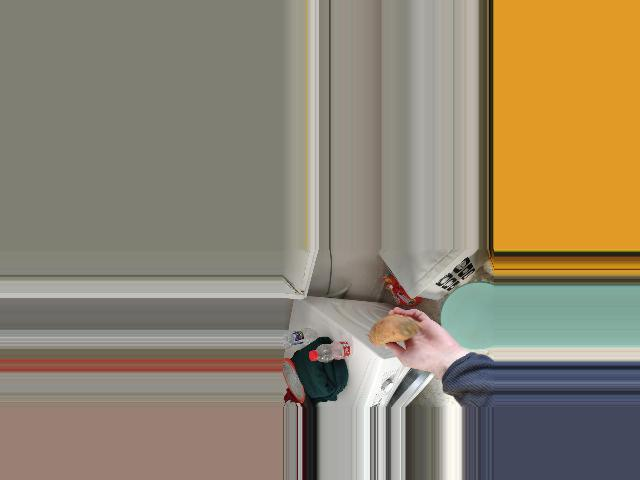sweet_potato: (367, 316, 424, 341)
